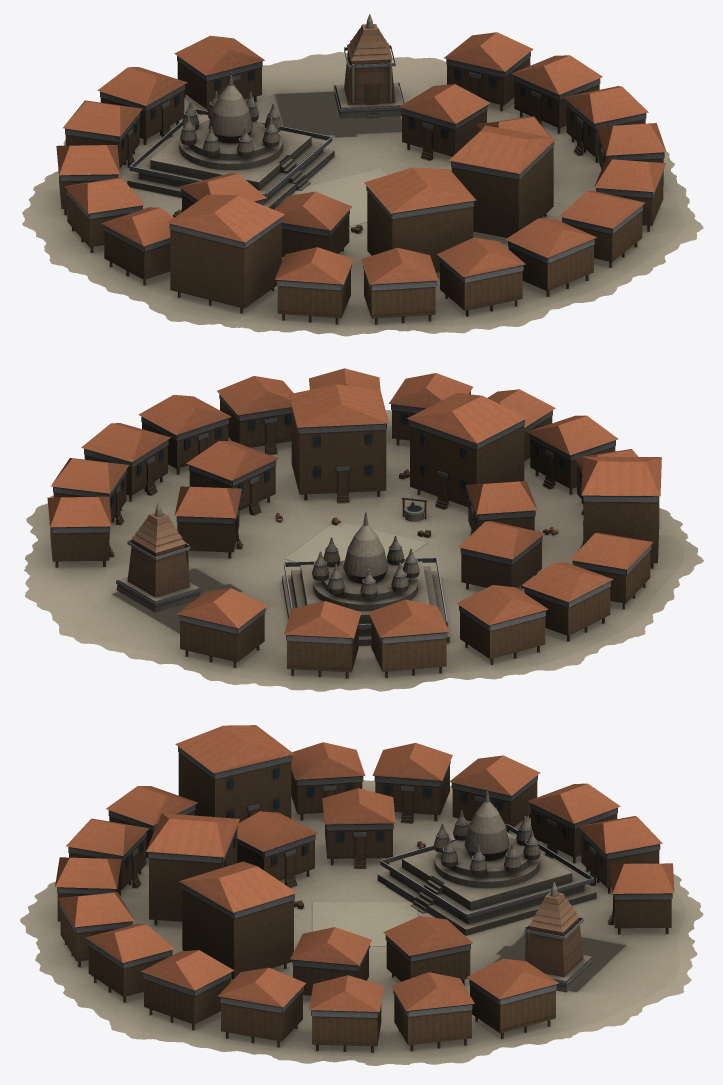
The model's file is classical-town-big-b-monsoon.glb.
3 views of the same model, one above another, from view 1: azimuth 30°, elevation 25°; view 2: azimuth 150°, elevation 25°; view 3: azimuth 270°, elevation 25° (orthographic).
Visible parts, largest first — view 1: LOD0; view 2: LOD0; view 3: LOD0.
Part boxes in pixels (x1,y1,x2,y2): LOD0: (22,14,703,336); LOD0: (24,368,703,691); LOD0: (20,725,703,1065).
Size of what is drawn, in the model's own units: 7.94 by 1.3 by 7.93.
Materials: 3 (3 with a texture image).
